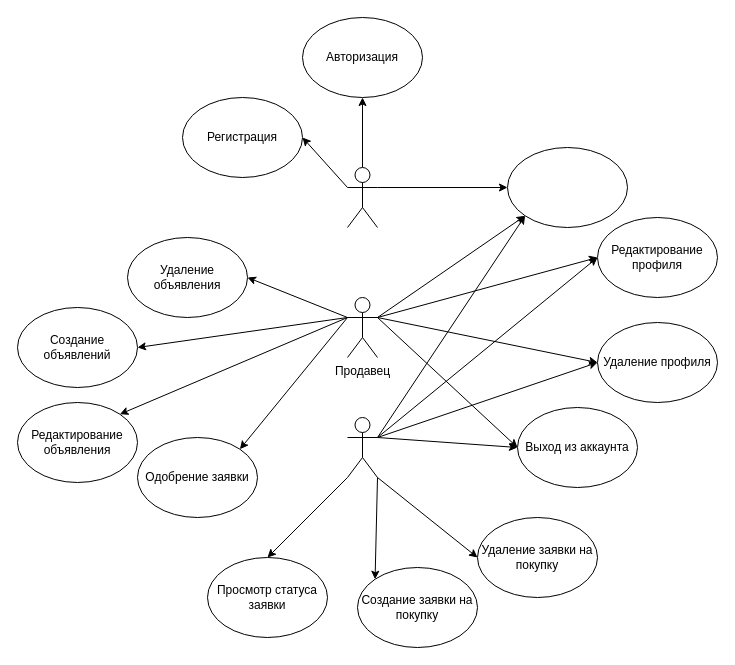
Some shapes in this 735 by 665 pixel diagram are drawn without their labels. Each missing label, with the centre of its shape:
"Гость" goes at point 362,197.
"Покупатель" goes at point 362,447.
"Просмотр объявлений" goes at point 567,187.
